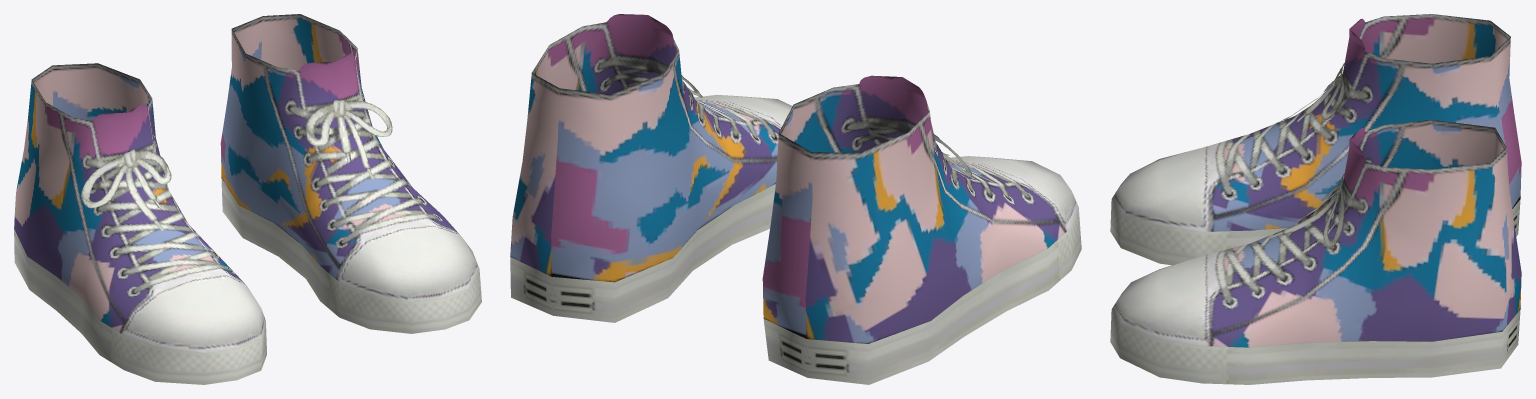
The model's file is mandem_shoes.fbx.
3 renders of one model, left to right at view 1: azimuth 30°, elevation 25°; view 2: azimuth 150°, elevation 25°; view 3: azimuth 270°, elevation 25°, orthographic. The views are drawn at different scales.
Visible parts, largest first — view 1: shoes; view 2: shoes; view 3: shoes.
Part boxes in pixels (left/top/right/bottom): shoes: left=14, top=14, right=481, bottom=384; shoes: left=510, top=14, right=1081, bottom=384; shoes: left=1110, top=14, right=1521, bottom=384.
Bounding box in the file's own units: 26.79 × 13.73 × 24.75.
1 material, 1 textured.
